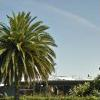Palm tree: (3, 6, 54, 89)
